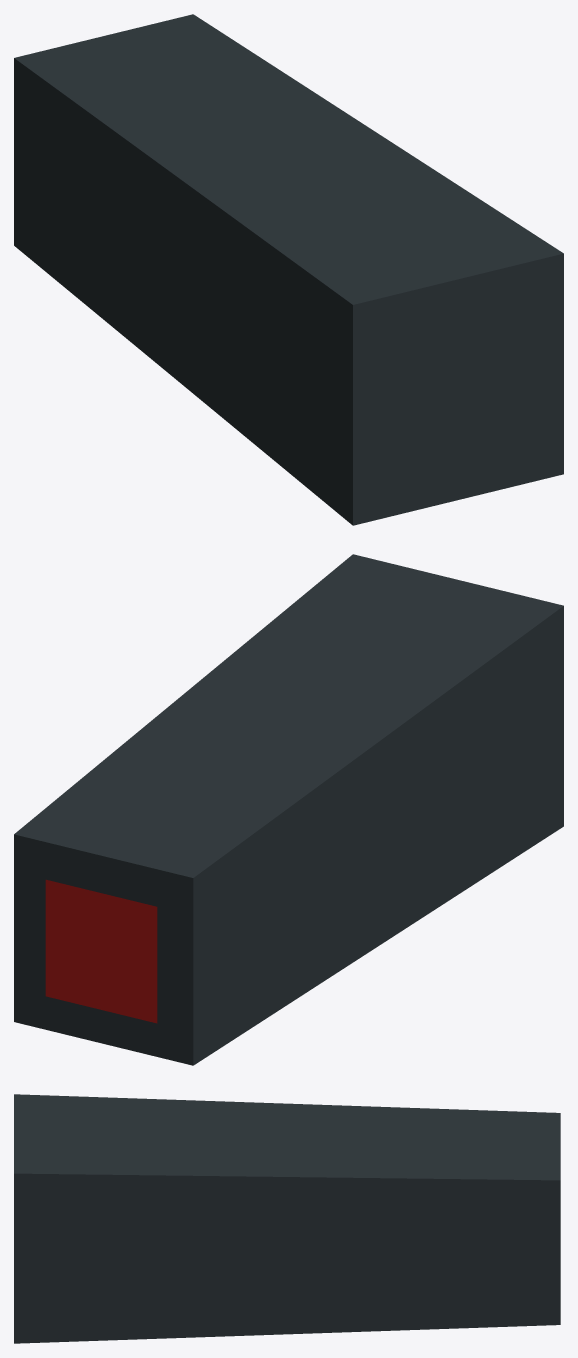
3 views of the same model, one above another, from view 1: azimuth 30°, elevation 25°; view 2: azimuth 150°, elevation 25°; view 3: azimuth 270°, elevation 25° (orthographic). The views are drawn at different scales.
Visible parts, largest first — view 1: mount; view 2: mount; view 3: mount.
Part boxes in pixels (x1,y1,x2,y2): mount: (14, 14, 563, 525); mount: (14, 554, 563, 1065); mount: (14, 1094, 560, 1343).
Bounding box in the file's own units: 1.77 × 1.77 × 5.18.
